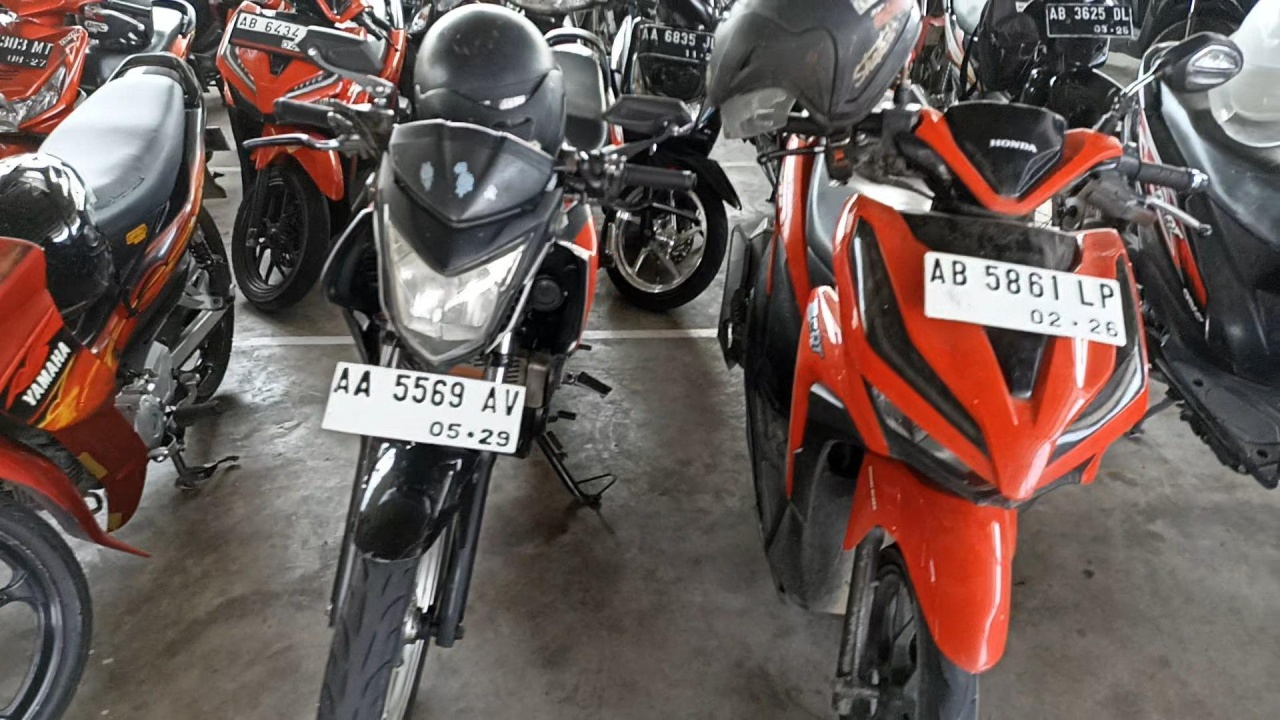plate: (925, 253, 1126, 346), (322, 362, 527, 453), (1047, 4, 1133, 38)
